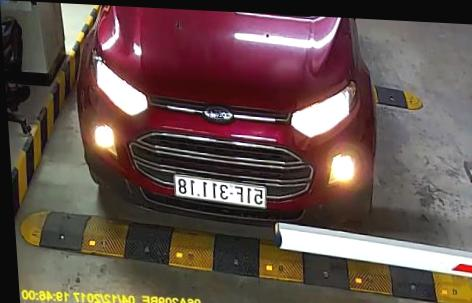License_Plate: (172, 173, 273, 204)
